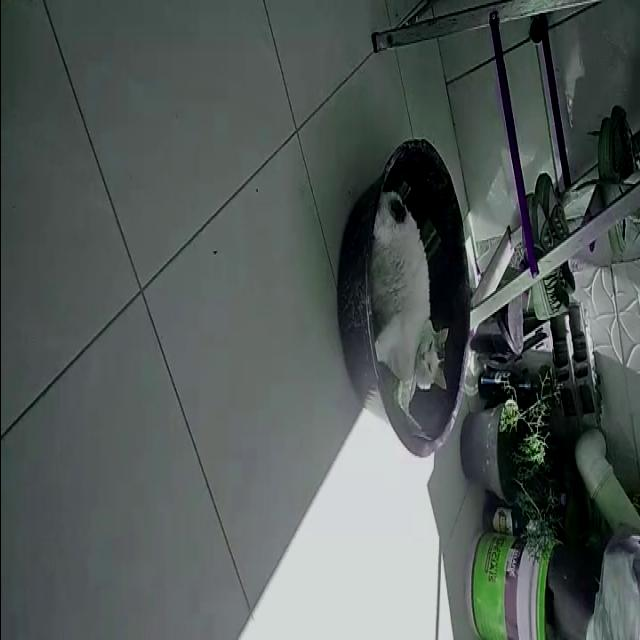Simba: (348, 152, 466, 439)
